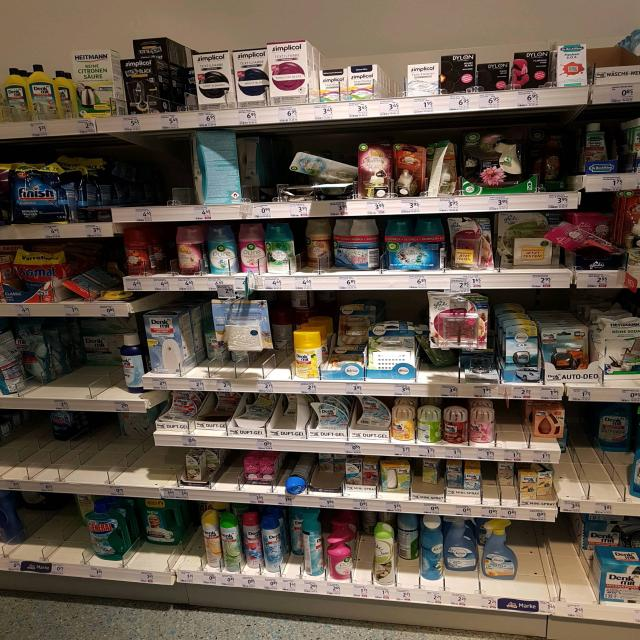void: (526, 520, 571, 614), (114, 130, 152, 228), (156, 130, 193, 224), (0, 410, 44, 489), (47, 494, 86, 582), (0, 493, 38, 576), (569, 400, 599, 498), (85, 410, 114, 494), (251, 137, 281, 218), (374, 53, 404, 115)
